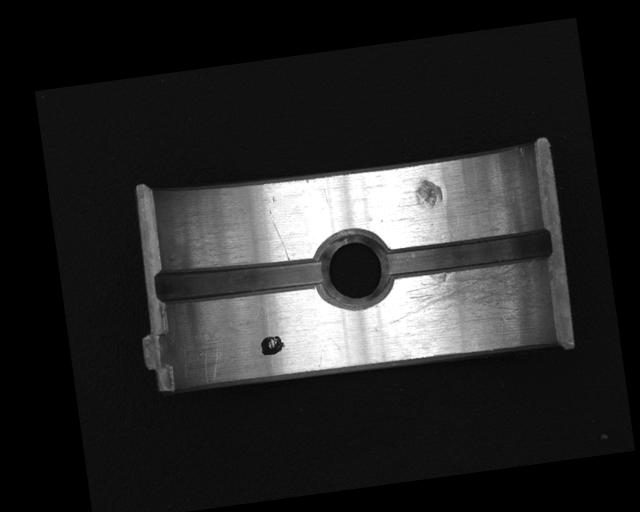blot: (258, 334, 286, 357)
bruise: (413, 177, 445, 211)
gap: (152, 247, 330, 309), (381, 225, 553, 282)
hole: (313, 224, 397, 312)
nick: (268, 207, 289, 262)
scratch: (382, 257, 553, 339)
